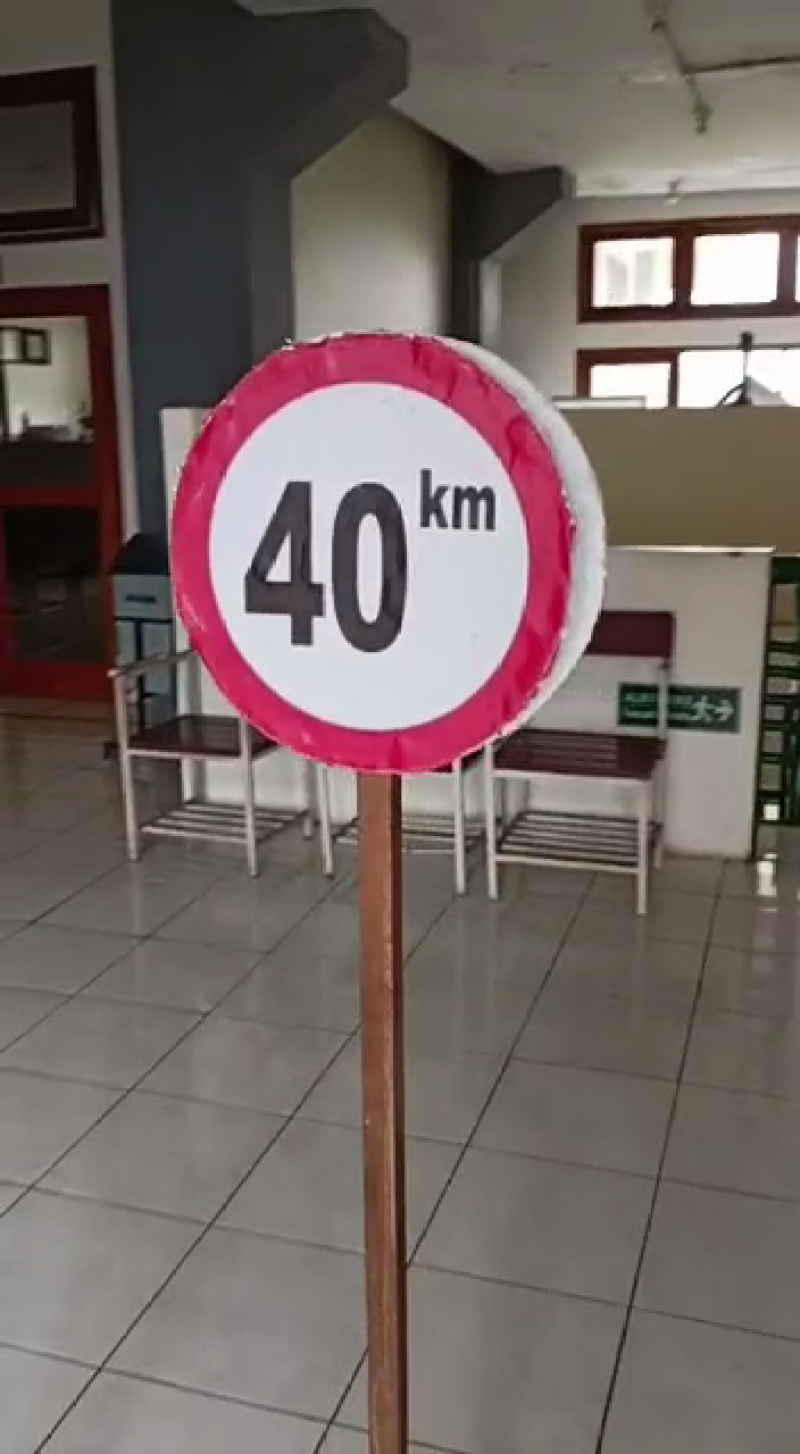batas maksimal 40kmperjam: (146, 308, 592, 787)
